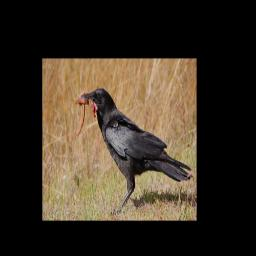Crow: (70, 84, 193, 215)
